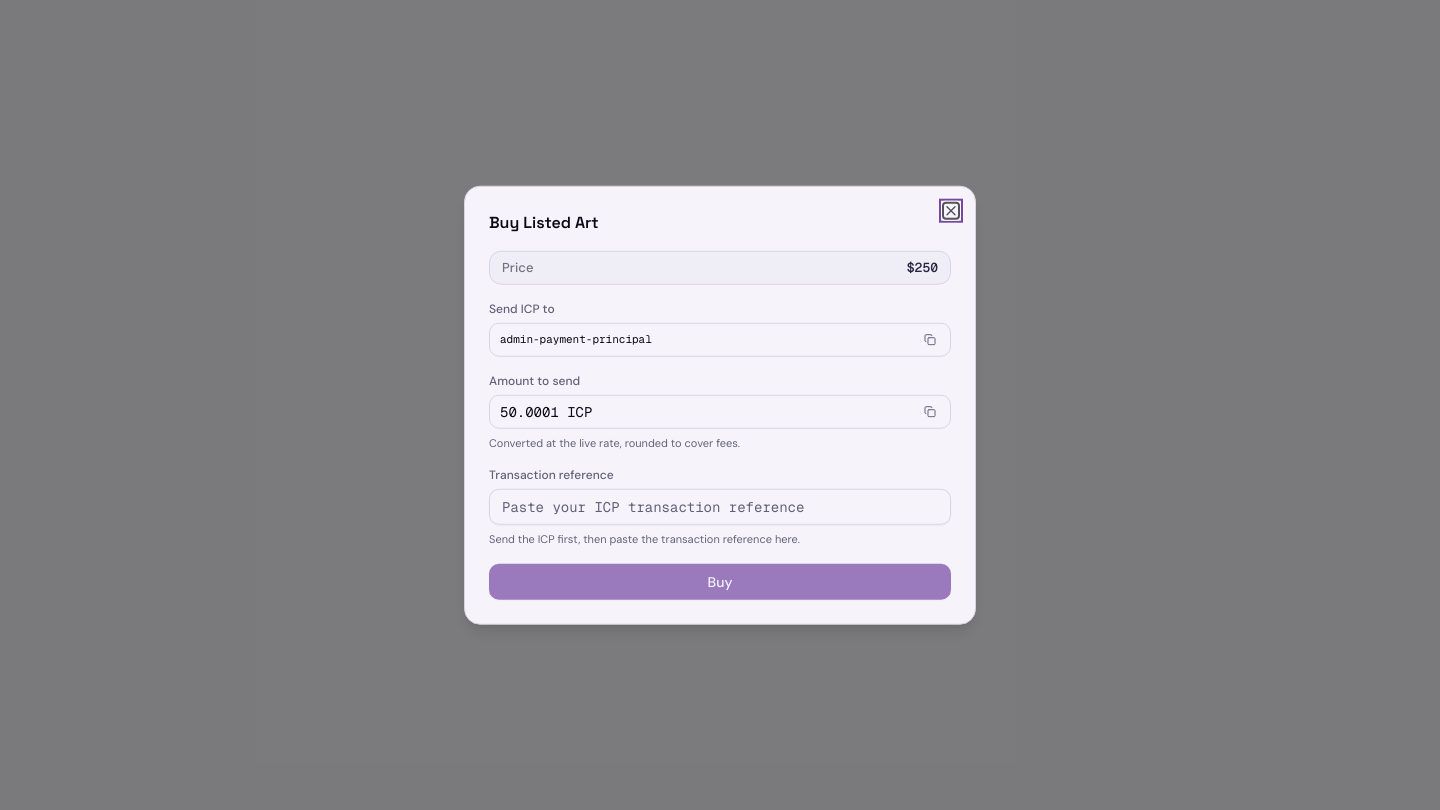
PurchaseModal (cover) › shows a polite error state with Try Again / Check Status on a failed purchase
In the field labelled "Transaction reference": (720, 507) [489, 489, 951, 525], type "42"
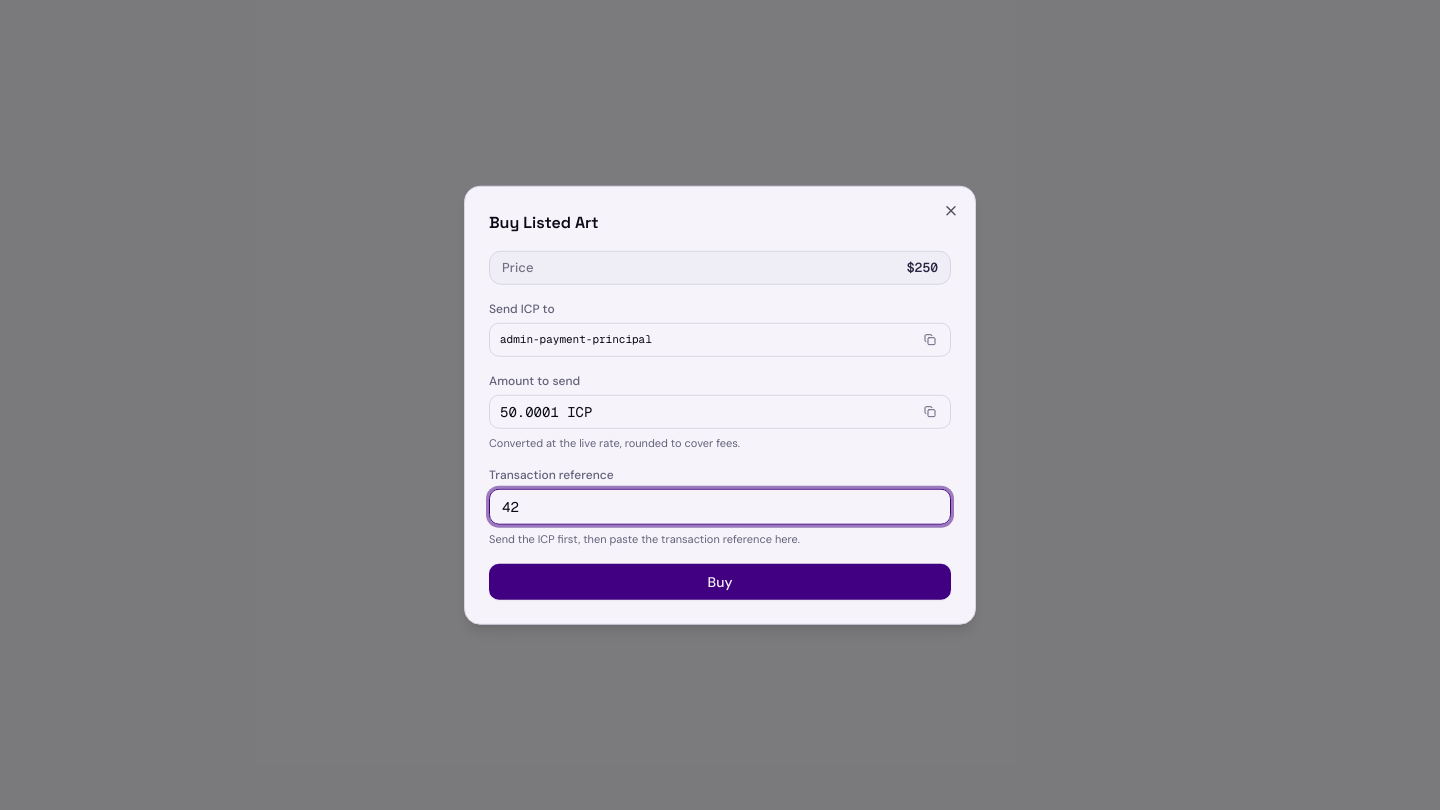
Click the button "Buy": (720, 581) [489, 563, 951, 599]
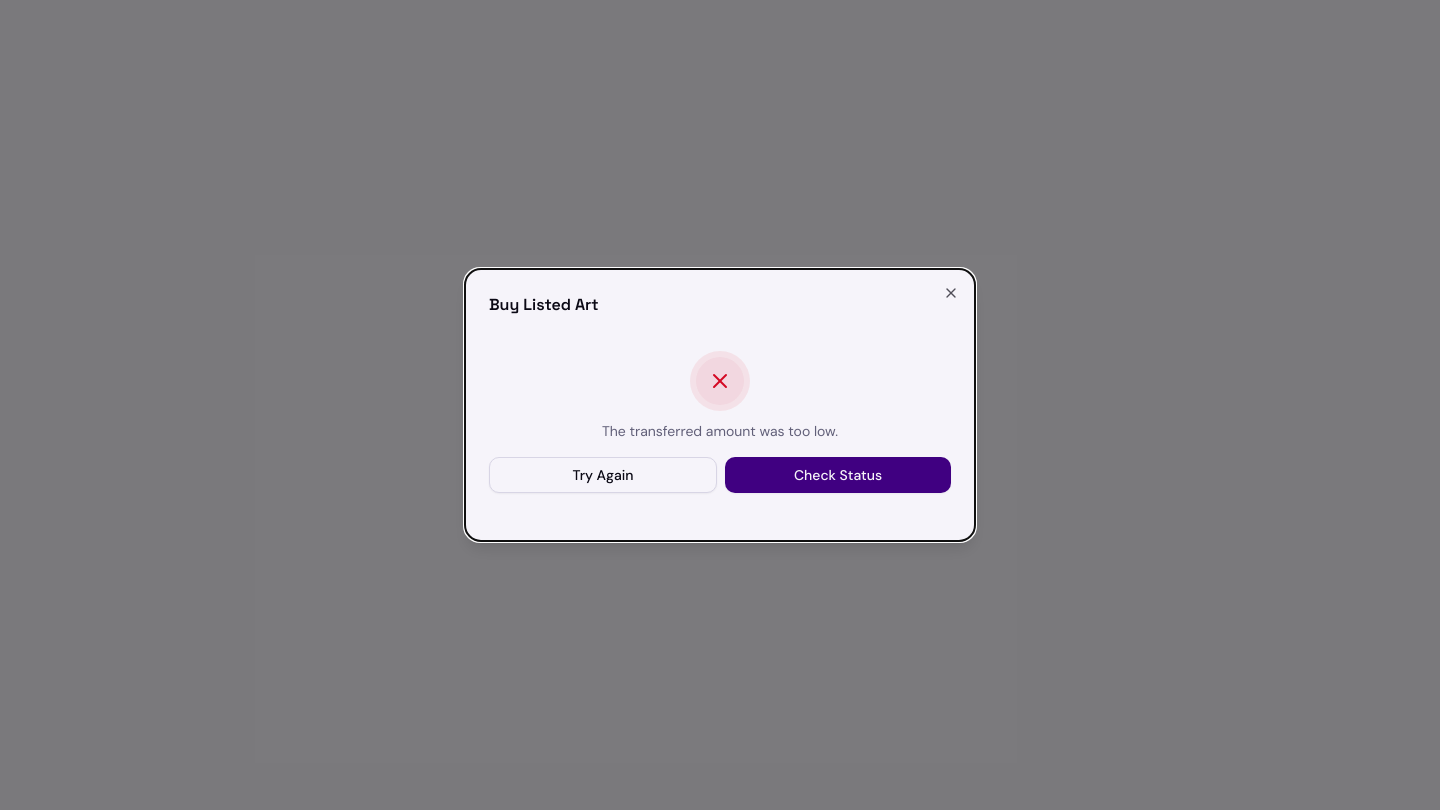
Result: the text "The transferred amount was too low." is shown at [602, 421, 838, 441]
Result: the button "Try Again" is shown at [489, 457, 717, 493]
Result: the button "Check Status" is shown at [725, 457, 951, 493]
